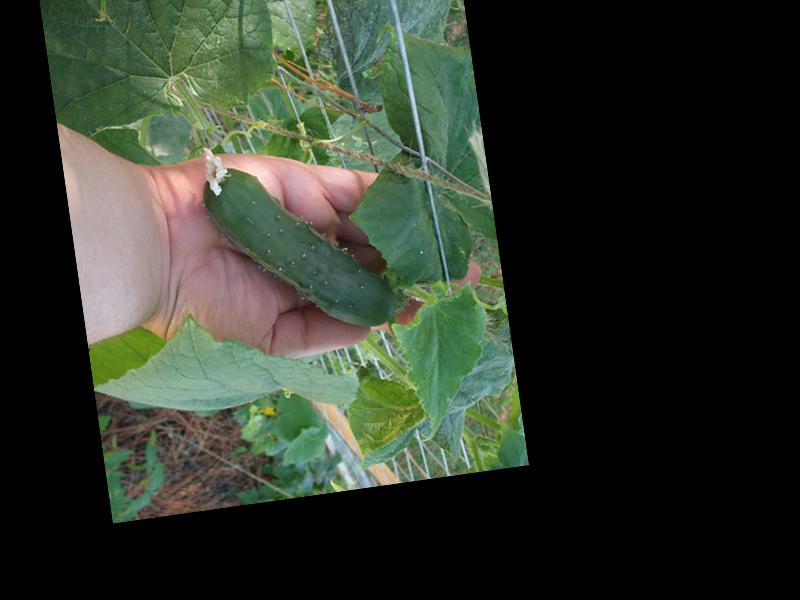Cucumber: (196, 122, 398, 345)
